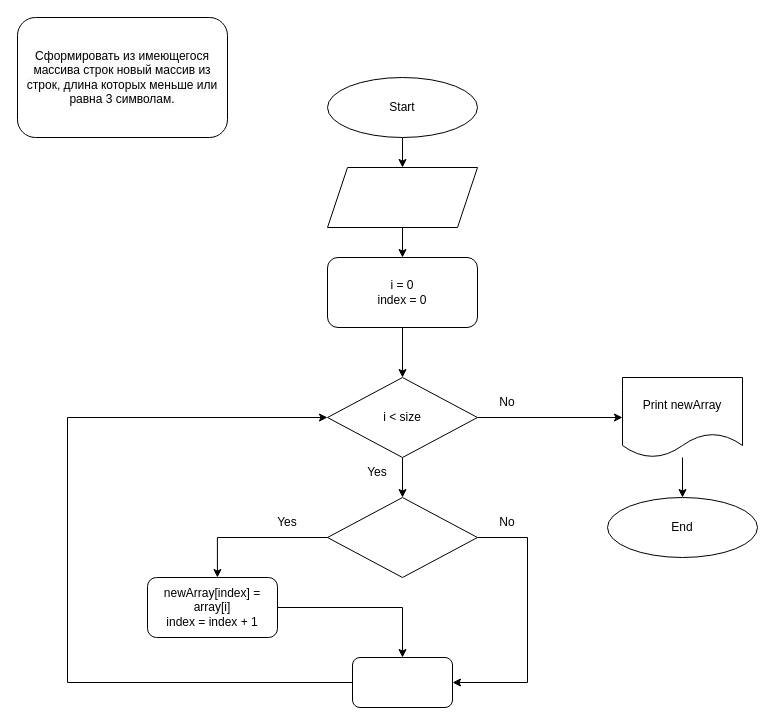
The diagram is 775 pixels wide and 725 high, and some of its shapes have lost their labels. The centre of each missing label's shape, as x and y in pixels:
"array size" goes at [402,197].
"array[i].Lenght <= 3" goes at [402,537].
"i = i + 1" goes at [402,682].
